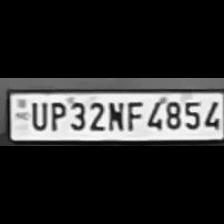2: (87, 98, 105, 132)
3: (67, 98, 85, 132)
4: (200, 98, 222, 130), (145, 98, 163, 132)
5: (182, 98, 200, 130)
8: (163, 98, 181, 132)
F: (124, 99, 142, 131)
N: (104, 98, 124, 132)
P: (47, 99, 66, 131)
U: (26, 98, 48, 130)
